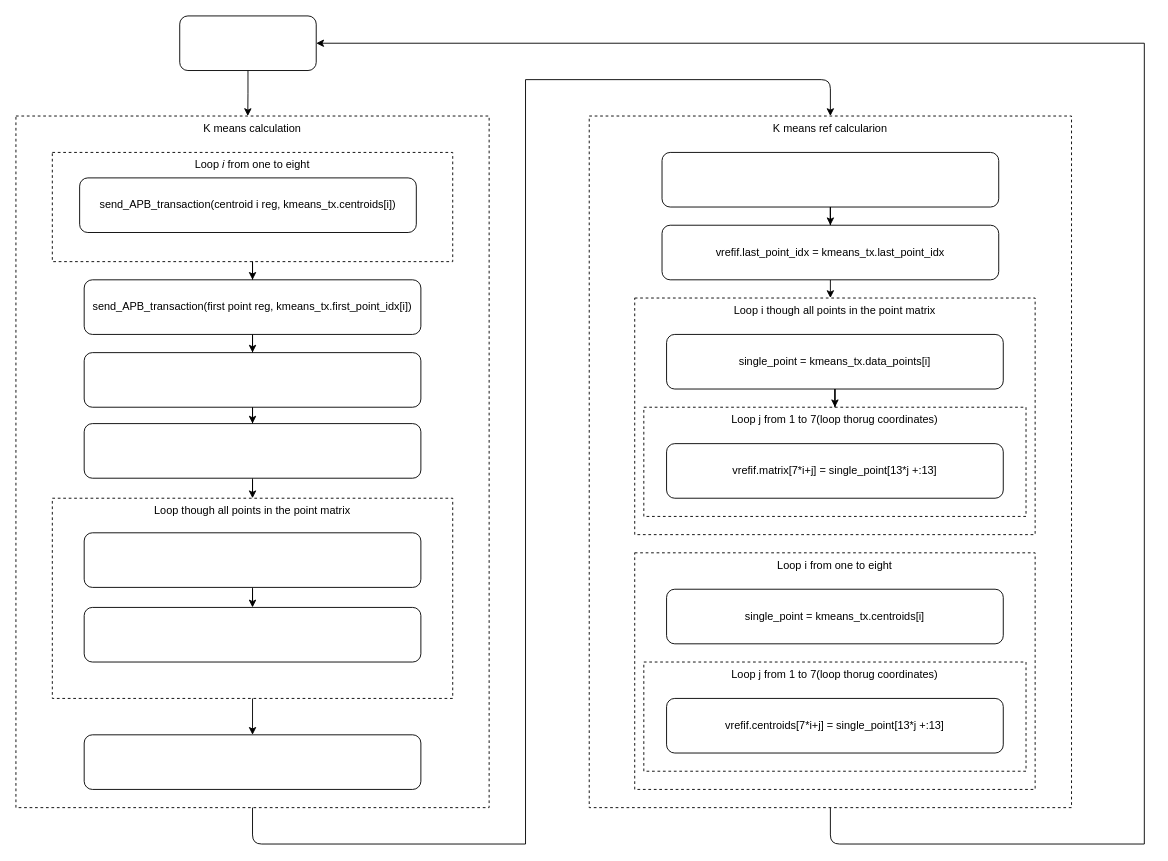
This 1168x861 diagram has some shape labels left out. Here are the shapes that lost their labels. From the top down, the box of each, then its label:
(179, 15, 316, 71): Get new kmeans transaction(kmeans_tx)
(661, 152, 999, 207): vrefif.first_point_idx = kmeans_tx.first_point_idx
(83, 352, 421, 407): send_APB_transaction(last point reg, kmeans_tx.last_point_idx[i])
(83, 423, 421, 478): send_APB_transaction(threshold reg, kmeans_tx.threshold[i])
(83, 532, 421, 587): send_APB_transaction(ram addr reg,i)
(83, 607, 421, 662): send_APB_transaction(ram data reg, kmeans_tx.data_points[i-1])
(83, 734, 421, 789): send_APB_transaction(GO reg, 1)
